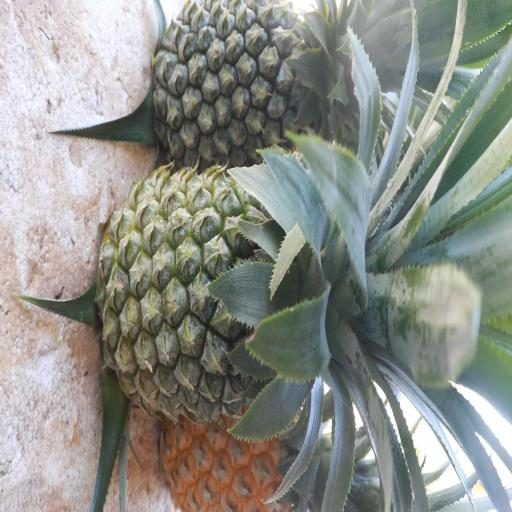------------------------------: (100, 177, 341, 417)
Pineapple - v8 v1: (165, 391, 322, 512)
